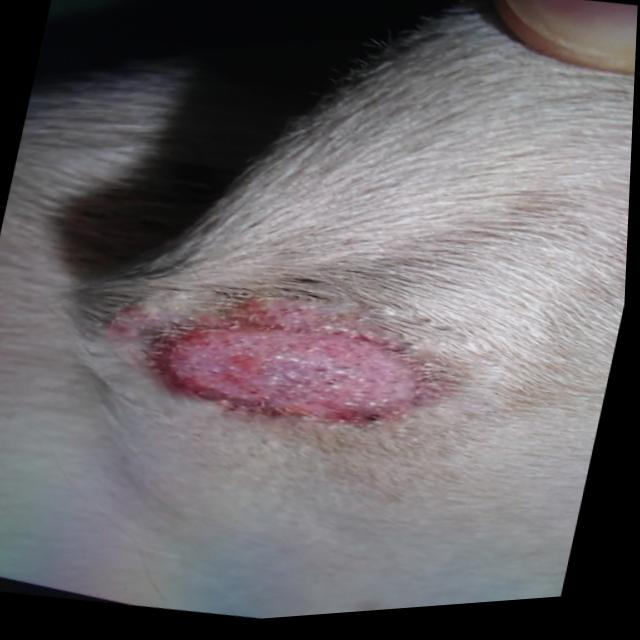ringworm: (101, 272, 475, 476)
